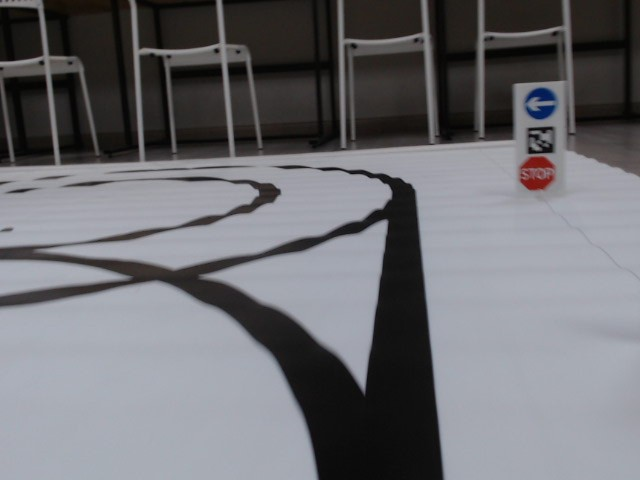Stop: (519, 155, 555, 190)
